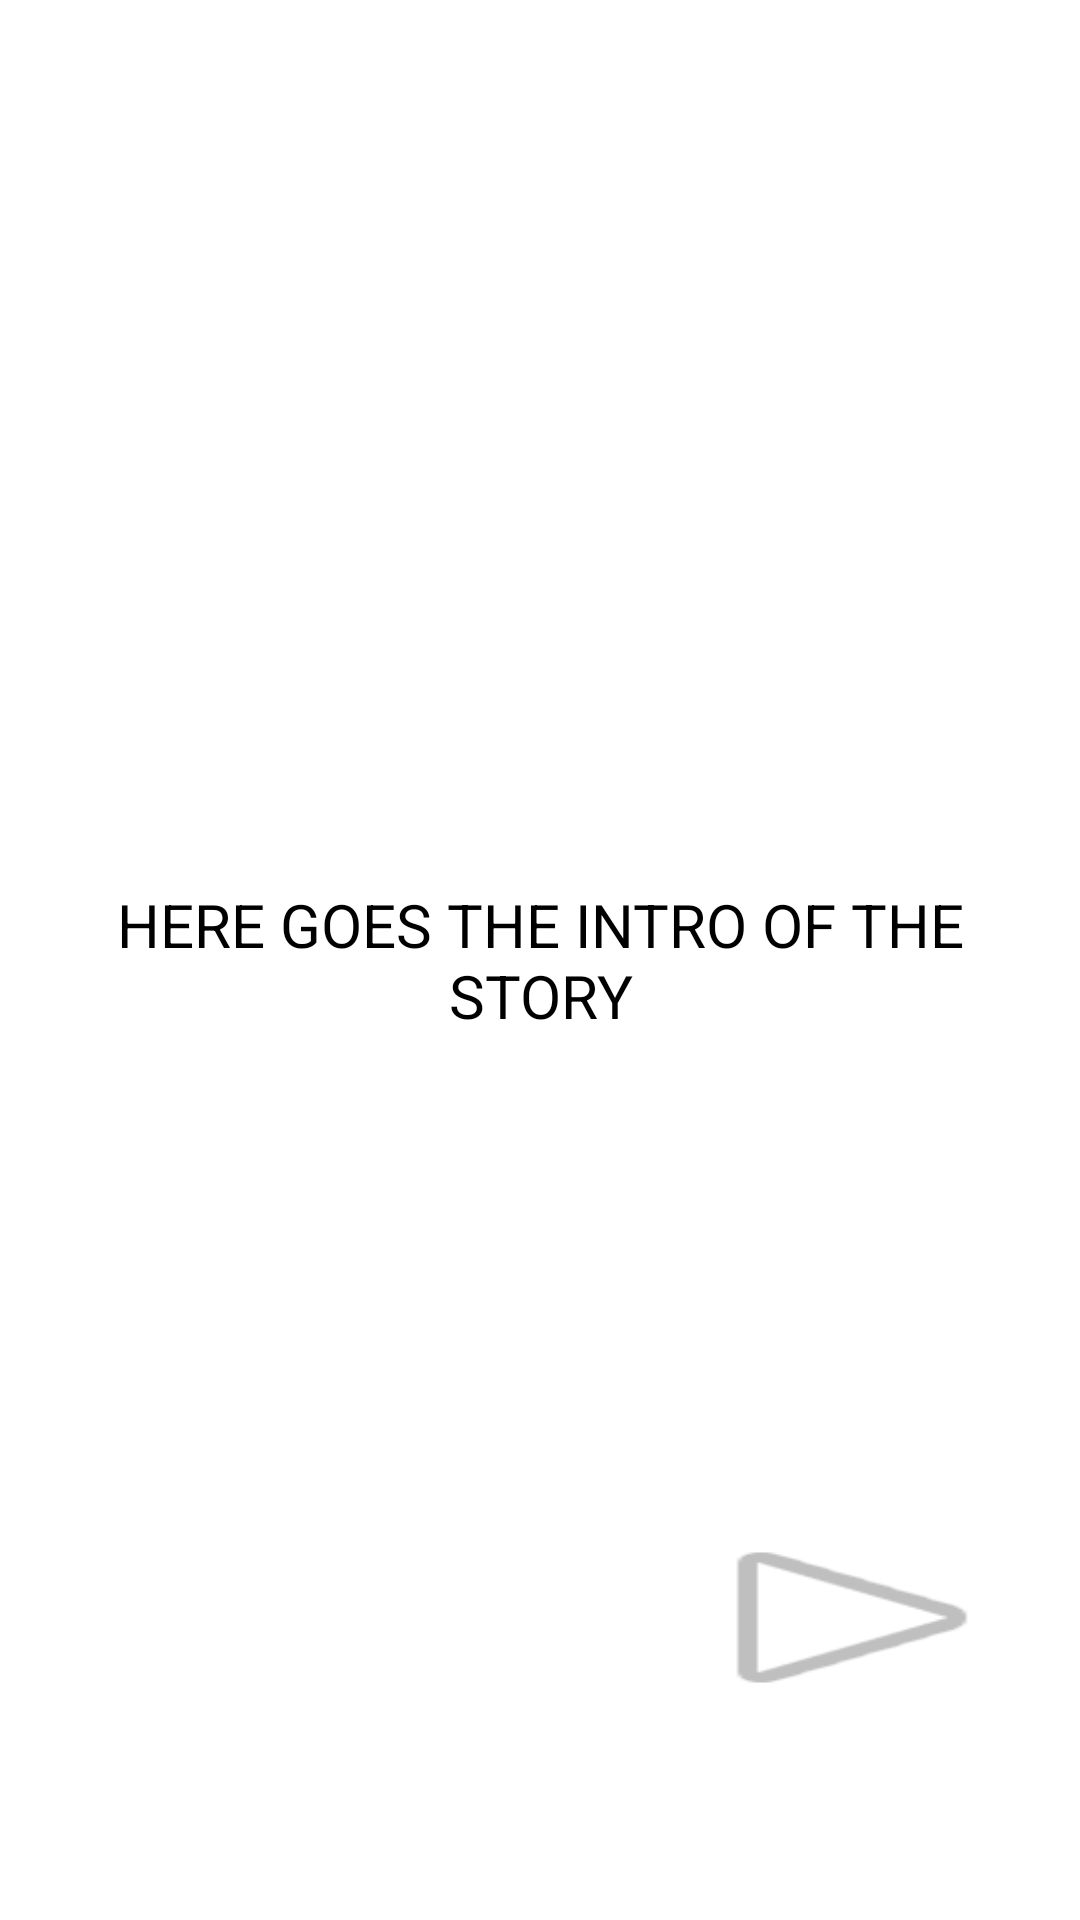

Point at icon controls on the screen. Image size 1080x1920, points as (x,y).
next: (852,1617)
